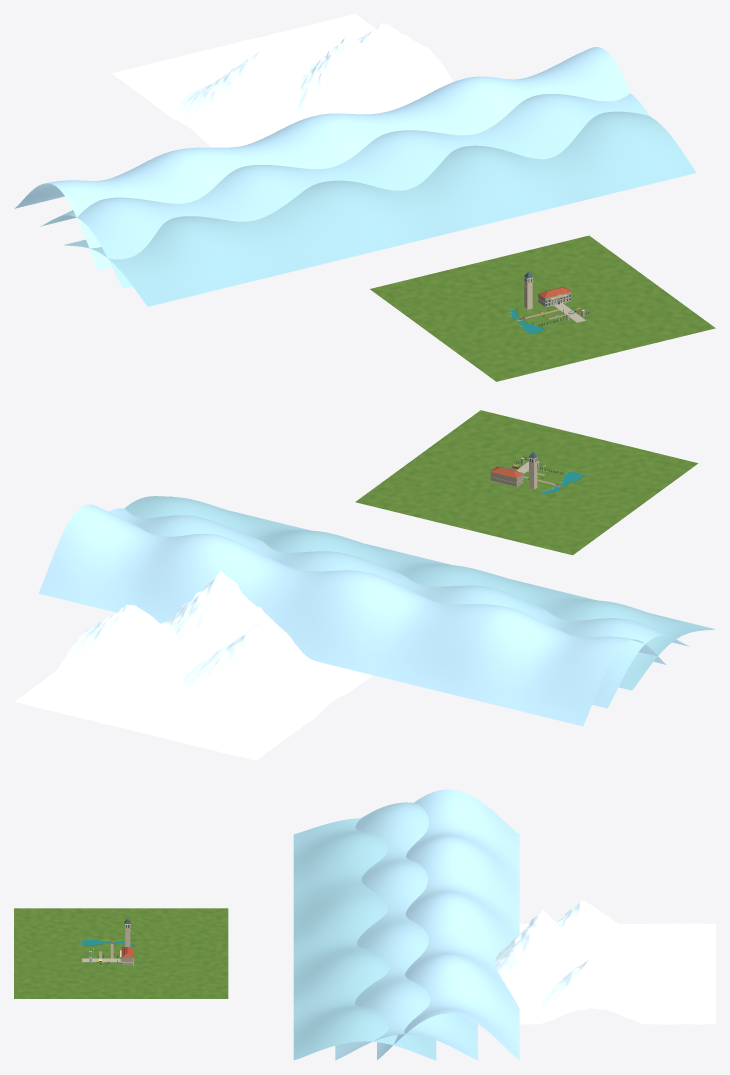
File: village.glb
The picture shows the model from 3 angles, top to bottom: view 1: azimuth 30°, elevation 25°; view 2: azimuth 150°, elevation 25°; view 3: azimuth 270°, elevation 25°; orthographic projection. The views are drawn at different scales.
Parts seen in each view (by area): view 1: Village architecture and landscape, Campus Terrain berkeley.001; view 2: Village architecture and landscape, Campus Terrain berkeley.001; view 3: Village architecture and landscape, Campus Terrain berkeley.001.
Boxes of the visible parts, box(x1,y1,x2,y2) form: Village architecture and landscape: box(14, 14, 696, 334); Campus Terrain berkeley.001: box(370, 235, 715, 381); Village architecture and landscape: box(14, 452, 714, 760); Campus Terrain berkeley.001: box(355, 410, 697, 555); Village architecture and landscape: box(82, 789, 715, 1060); Campus Terrain berkeley.001: box(14, 908, 228, 998).
Size of the model in its own units: 450 by 66.31 by 590.
